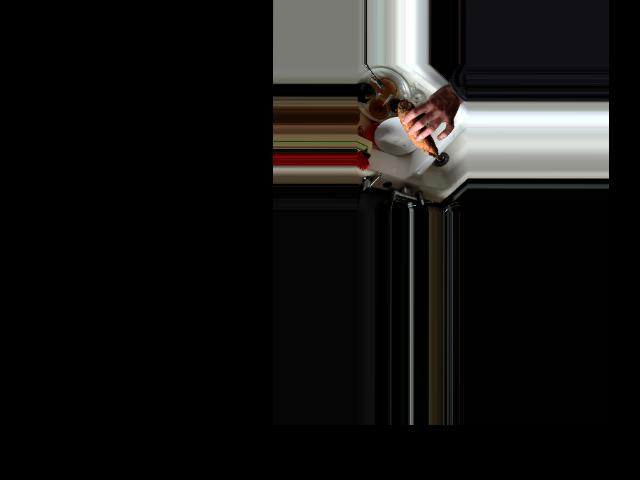sweet_potato: (397, 100, 441, 161)
